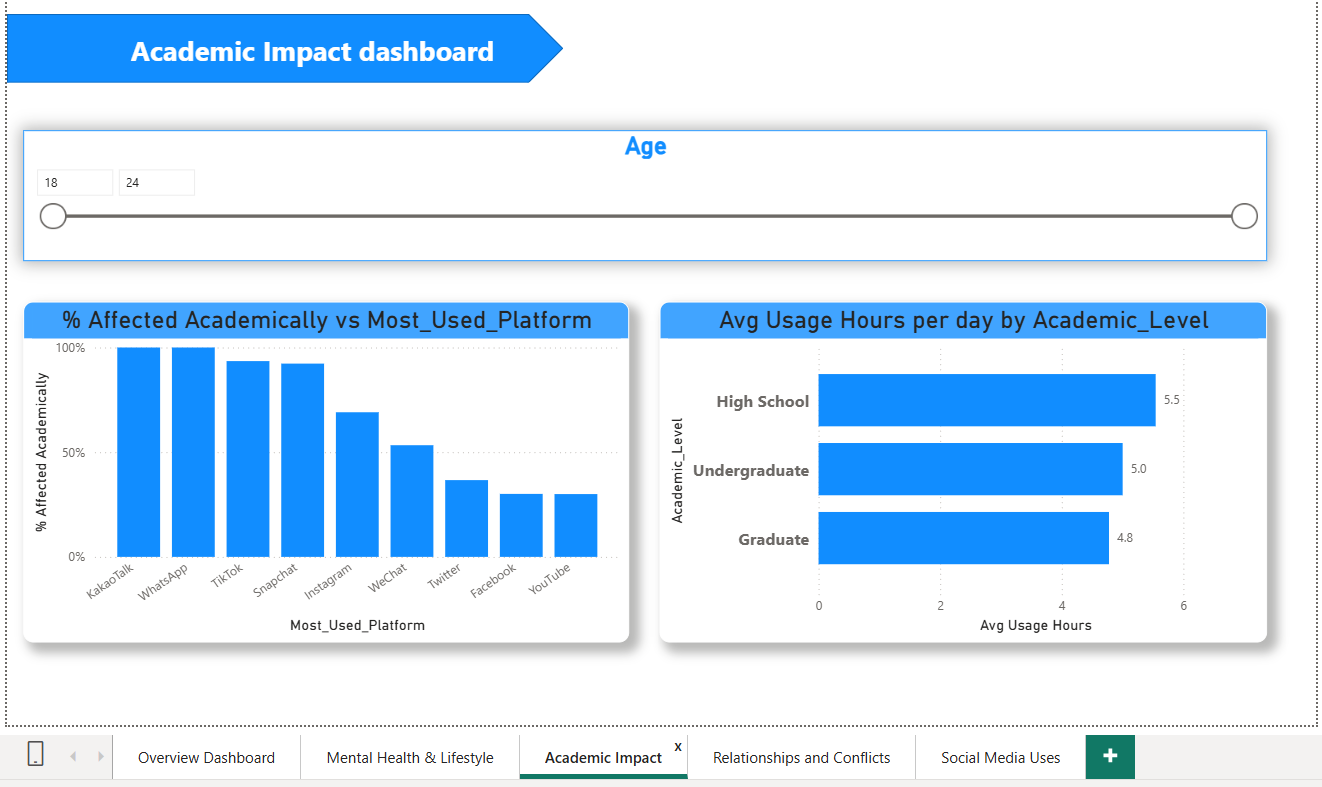

What the dashboard file says about the page in this screenshot:
{"tool":"powerbi","page":{"name":"Academic Impact","canvas":[1280,720],"ordinal":2},"visuals":[{"type":"barChart","title":"Avg Usage Hours per day by Academic_Level","fields":{"Category":["Student Details.Academic_Level"],"Y":["Platform Details.Avg Usage Hours"]},"box":[638.3,305.7,594.3,333.8],"z":0},{"type":"shape","box":[0,24.5,544.2,67.3],"z":1000},{"type":"columnChart","title":"% Affected Academically vs Most_Used_Platform","fields":{"Category":["Platform Details.Most_Used_Platform"],"Y":["Platform Details.% Affected Academically"]},"box":[15.9,305.7,593.1,333.8],"z":2000},{"type":"textbox","box":[116.2,36.7,391.3,55],"z":3000},{"type":"slicer","title":"Age","fields":{"Values":["Student Details.Age"]},"box":[15.9,138.2,1216.7,128.4],"z":3001}]}

Visuals, with their boxes on the page's 1280x720 design canvas (x1, y1, x2, y2). These are canvas units, not pixel positions in the 1322x787 screenshot, which may show the page scaled, cropped or inside an application window:
"Avg Usage Hours per day by Academic_Level" barChart: rect(638, 306, 1233, 640)
shape: rect(0, 24, 544, 92)
"% Affected Academically vs Most_Used_Platform" columnChart: rect(16, 306, 609, 640)
textbox: rect(116, 37, 508, 92)
"Age" slicer: rect(16, 138, 1233, 267)
